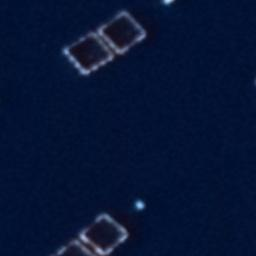square_solid: (62, 30, 117, 78), (76, 210, 131, 256), (97, 9, 148, 56)
